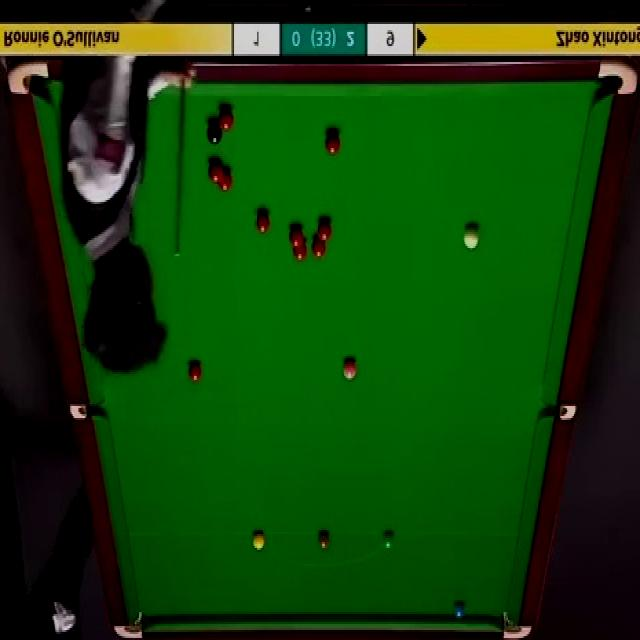black-ball: (206, 119, 223, 146)
blue-ball: (453, 600, 468, 624)
brown-ball: (317, 529, 331, 549)
green-ball: (380, 528, 394, 550)
pink-ball: (341, 356, 360, 384)
red-ball: (217, 104, 235, 131), (206, 158, 225, 183), (325, 128, 341, 155), (256, 208, 272, 232), (188, 361, 204, 384), (288, 224, 304, 247), (291, 240, 308, 261), (218, 170, 234, 192), (317, 220, 332, 242), (311, 238, 327, 258)
white-ball: (463, 223, 480, 249)
yellow-ball: (252, 530, 266, 550)
